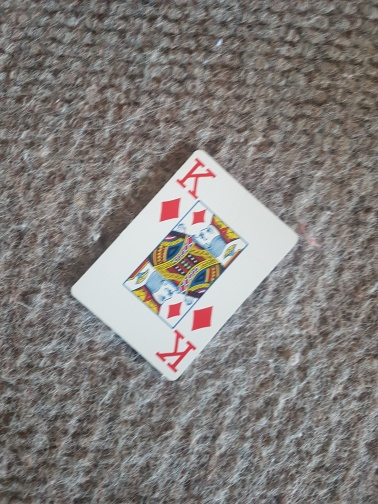king: (71, 149, 300, 378)
